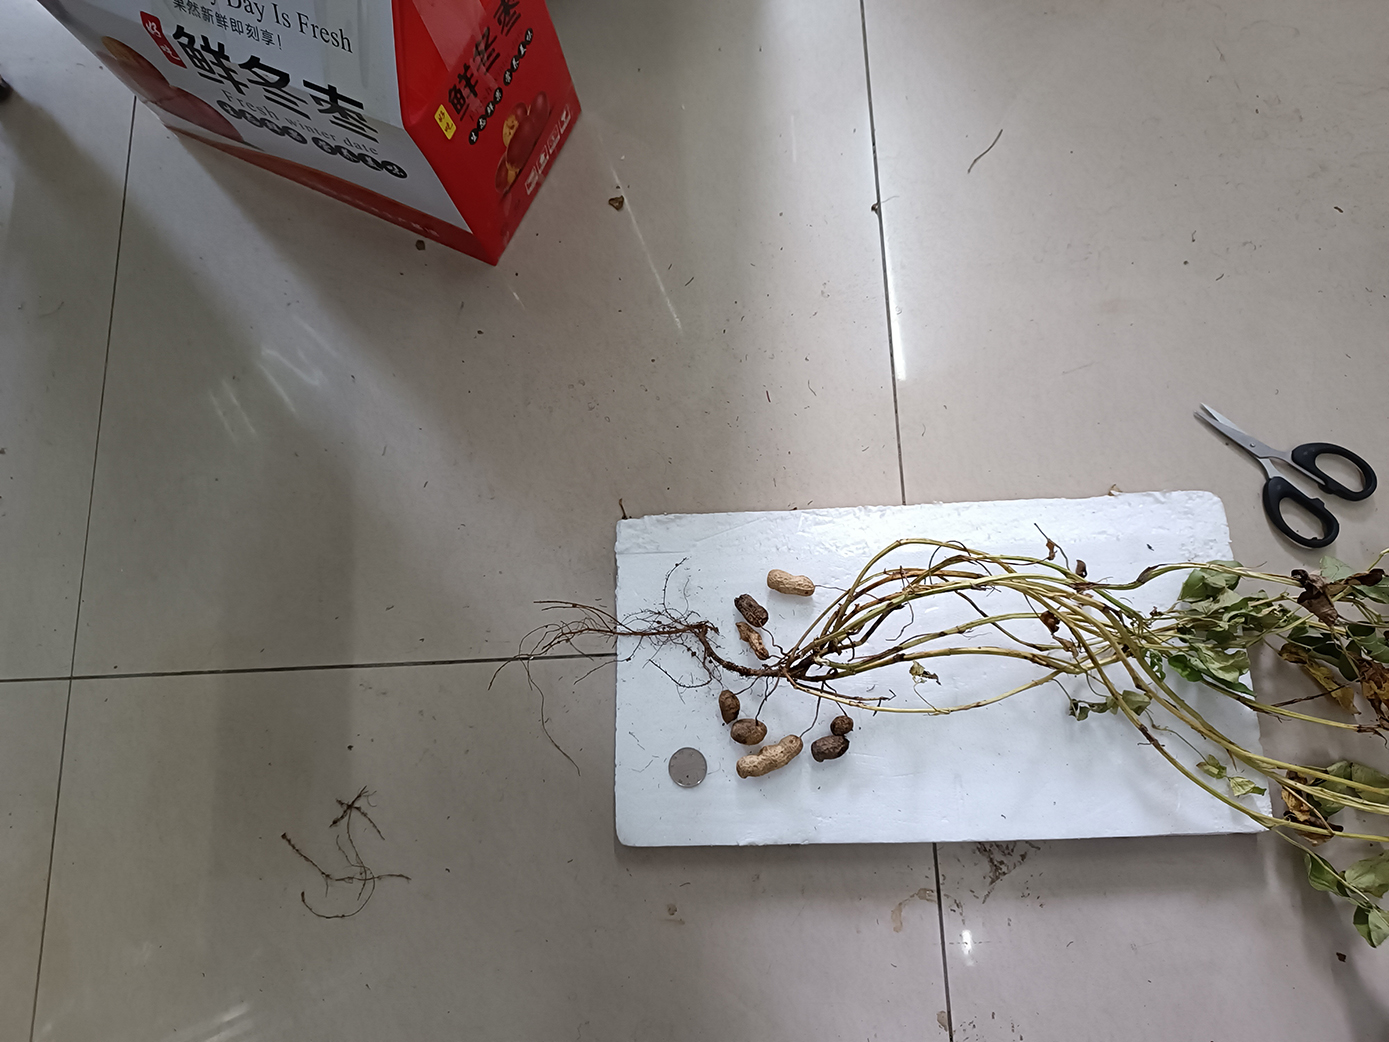h: (736, 736, 805, 778), (765, 569, 817, 597)
l: (736, 623, 769, 661), (733, 594, 768, 627), (729, 718, 768, 746), (810, 736, 852, 762), (720, 691, 740, 723), (827, 715, 854, 736)
